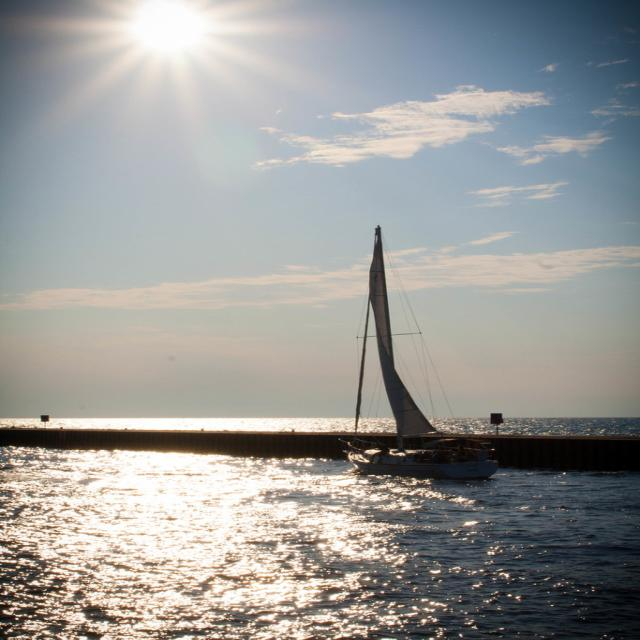Boat: (318, 221, 491, 488)
